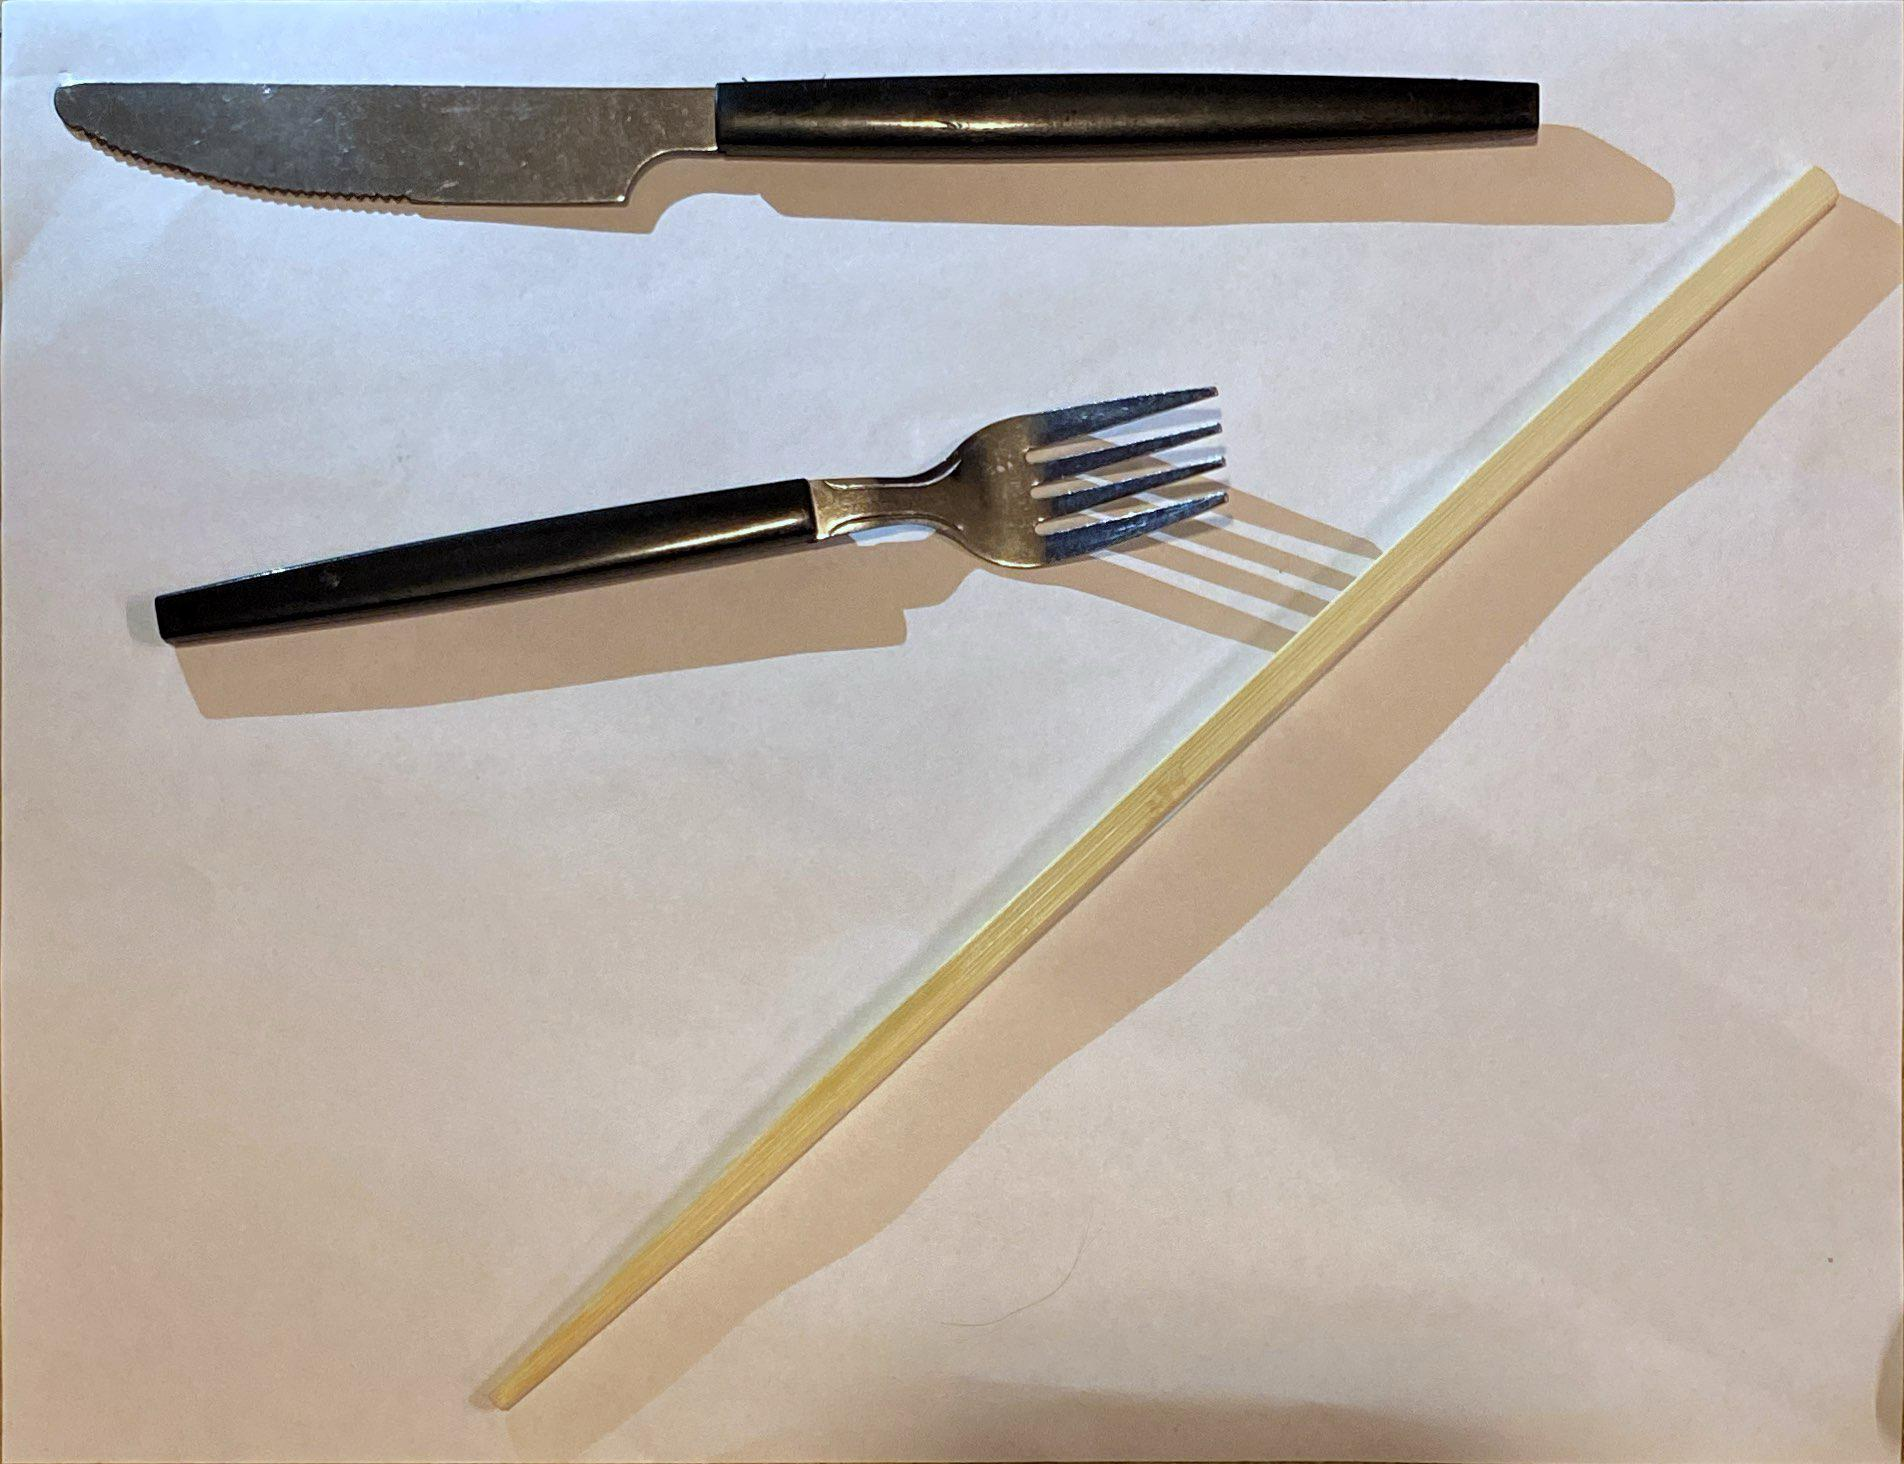Chopstick: (444, 177, 1889, 1464)
Fork: (125, 375, 1258, 724)
Knife: (38, 60, 1563, 268)
